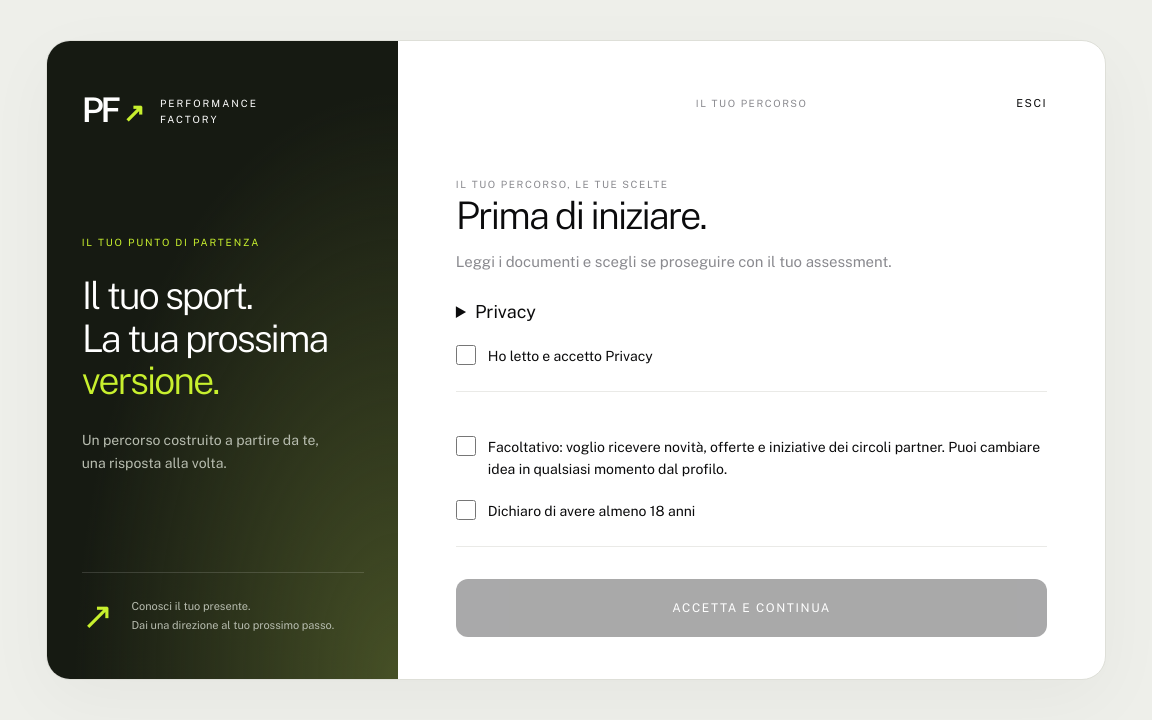
Scenario: PF4 authenticated journey functions › keeps Google discovery through redirect until explicit current consents and successful registration
Check: the button "Accetta e continua" is disabled, box [456,579,1047,637]
Click the checkbox labelled "Ho letto e accetto Privacy": (466, 355) [456,345,476,365]
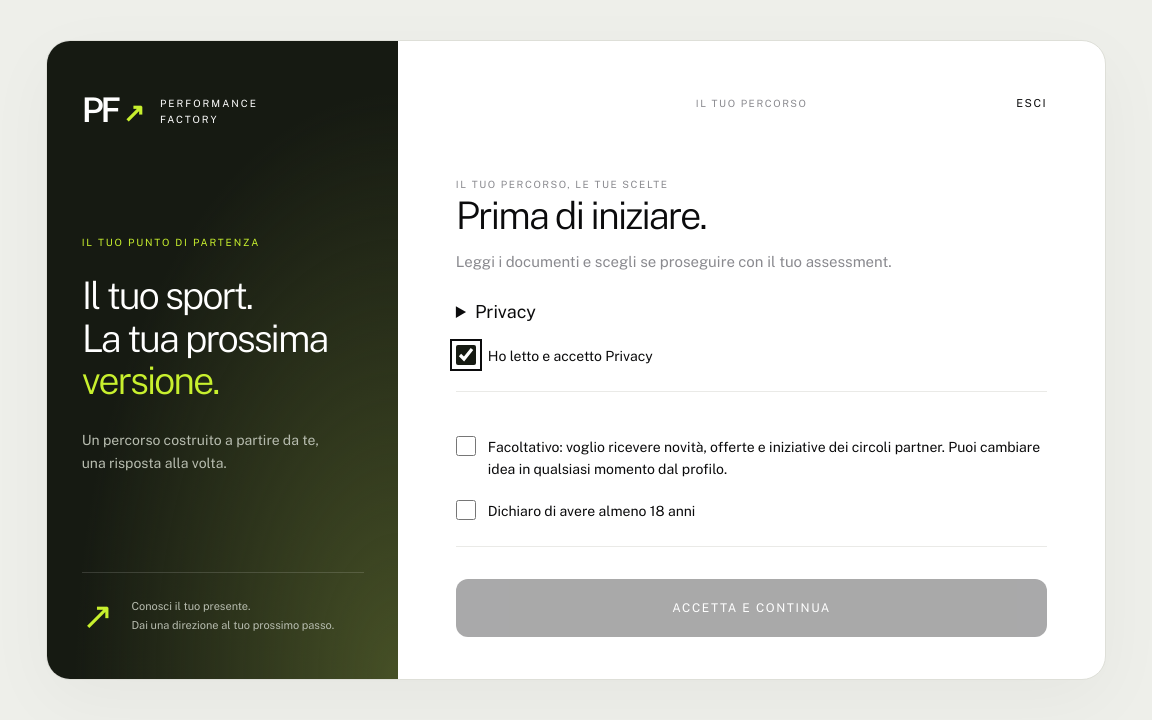
Check: the button "Accetta e continua" is disabled, box [456,579,1047,637]
Click the checkbox labelled "Dichiaro di avere almeno 18 anni": (466, 510) [456,500,476,520]
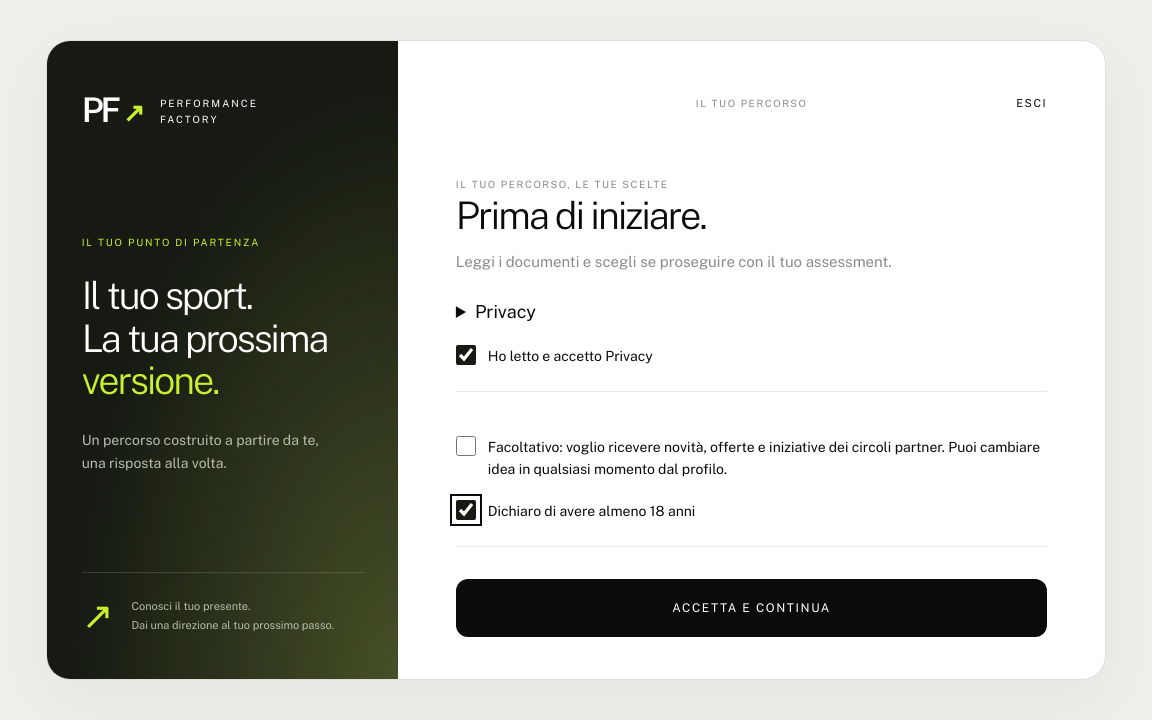
Click the button "Accetta e continua": (752, 608) [456,579,1047,637]
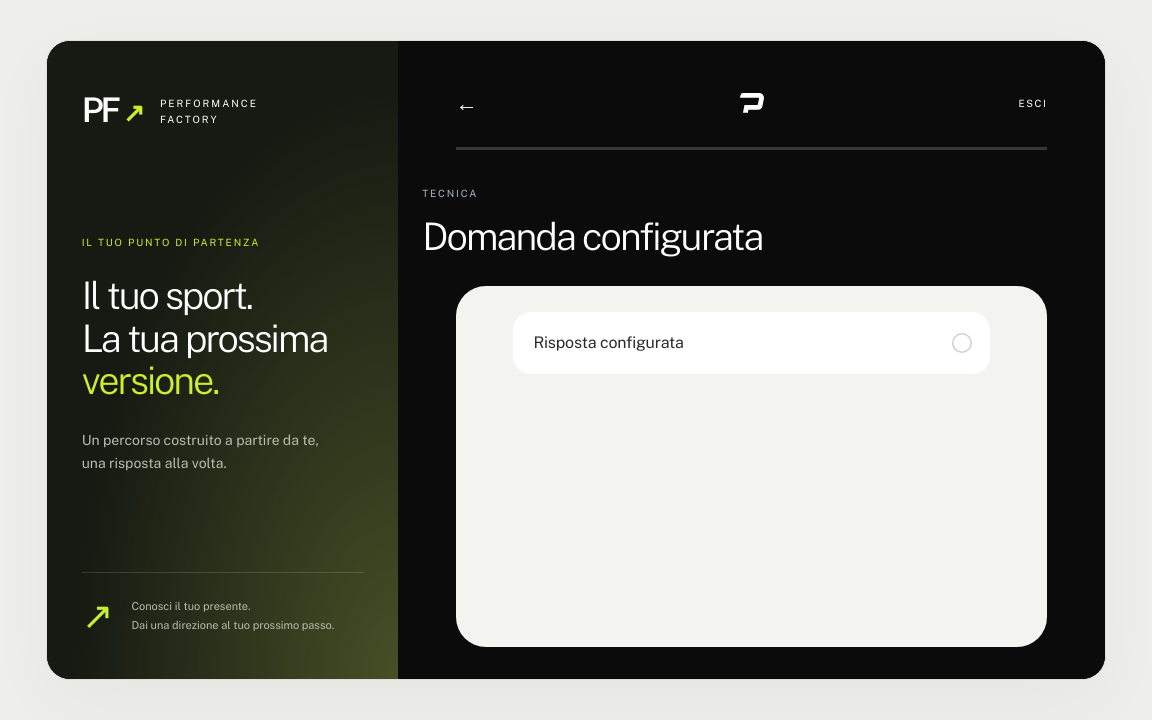
Check: the heading "Domanda configurata" is shown, box [422,214,762,259]
